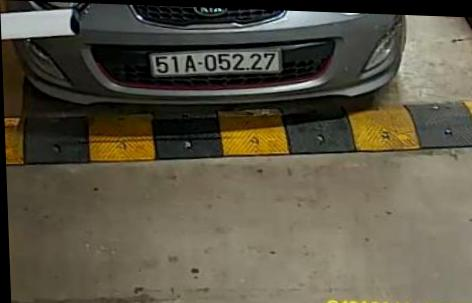License_Plate: (150, 43, 286, 80)
